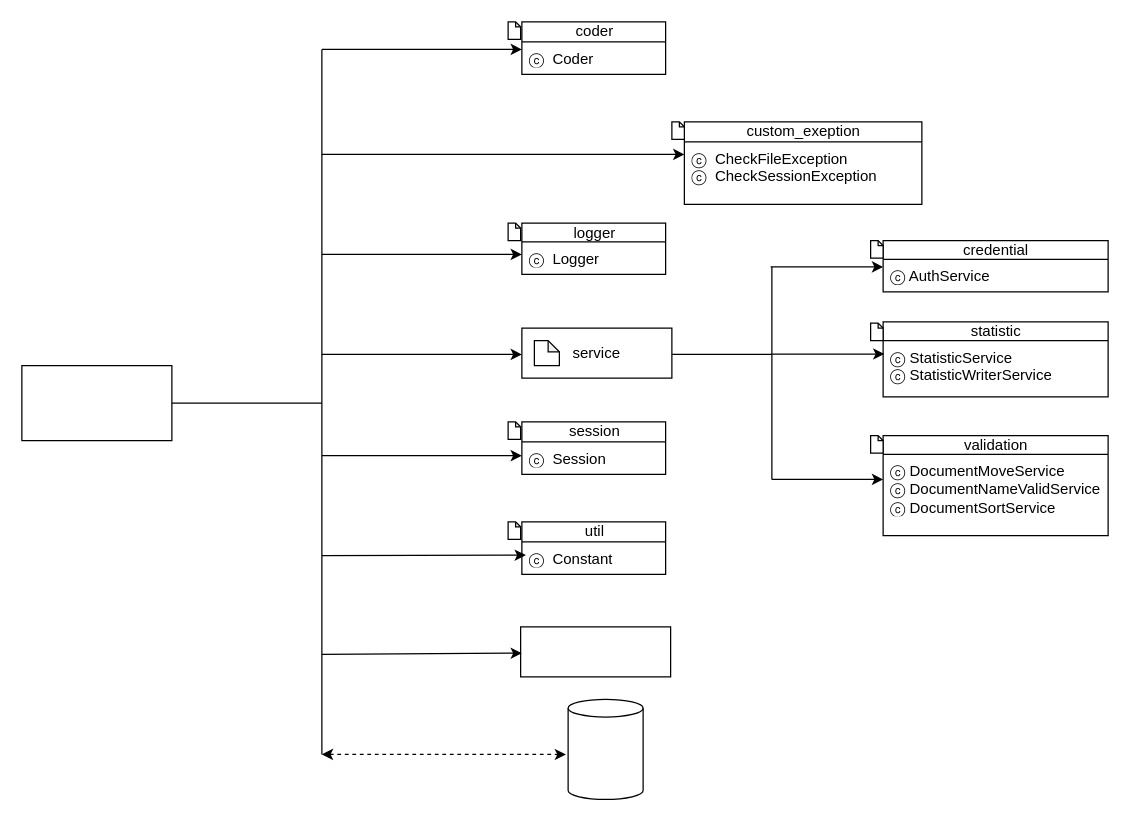
Image size: 1130x821. Some labels were removed from this diagram. The centre of each missing label's shape, as x and y in pixels:
"final_assignment" belongs at (x=96, y=402).
"Storage" belongs at (x=605, y=748).
"ⓒ Runner" belongs at (x=595, y=651).
